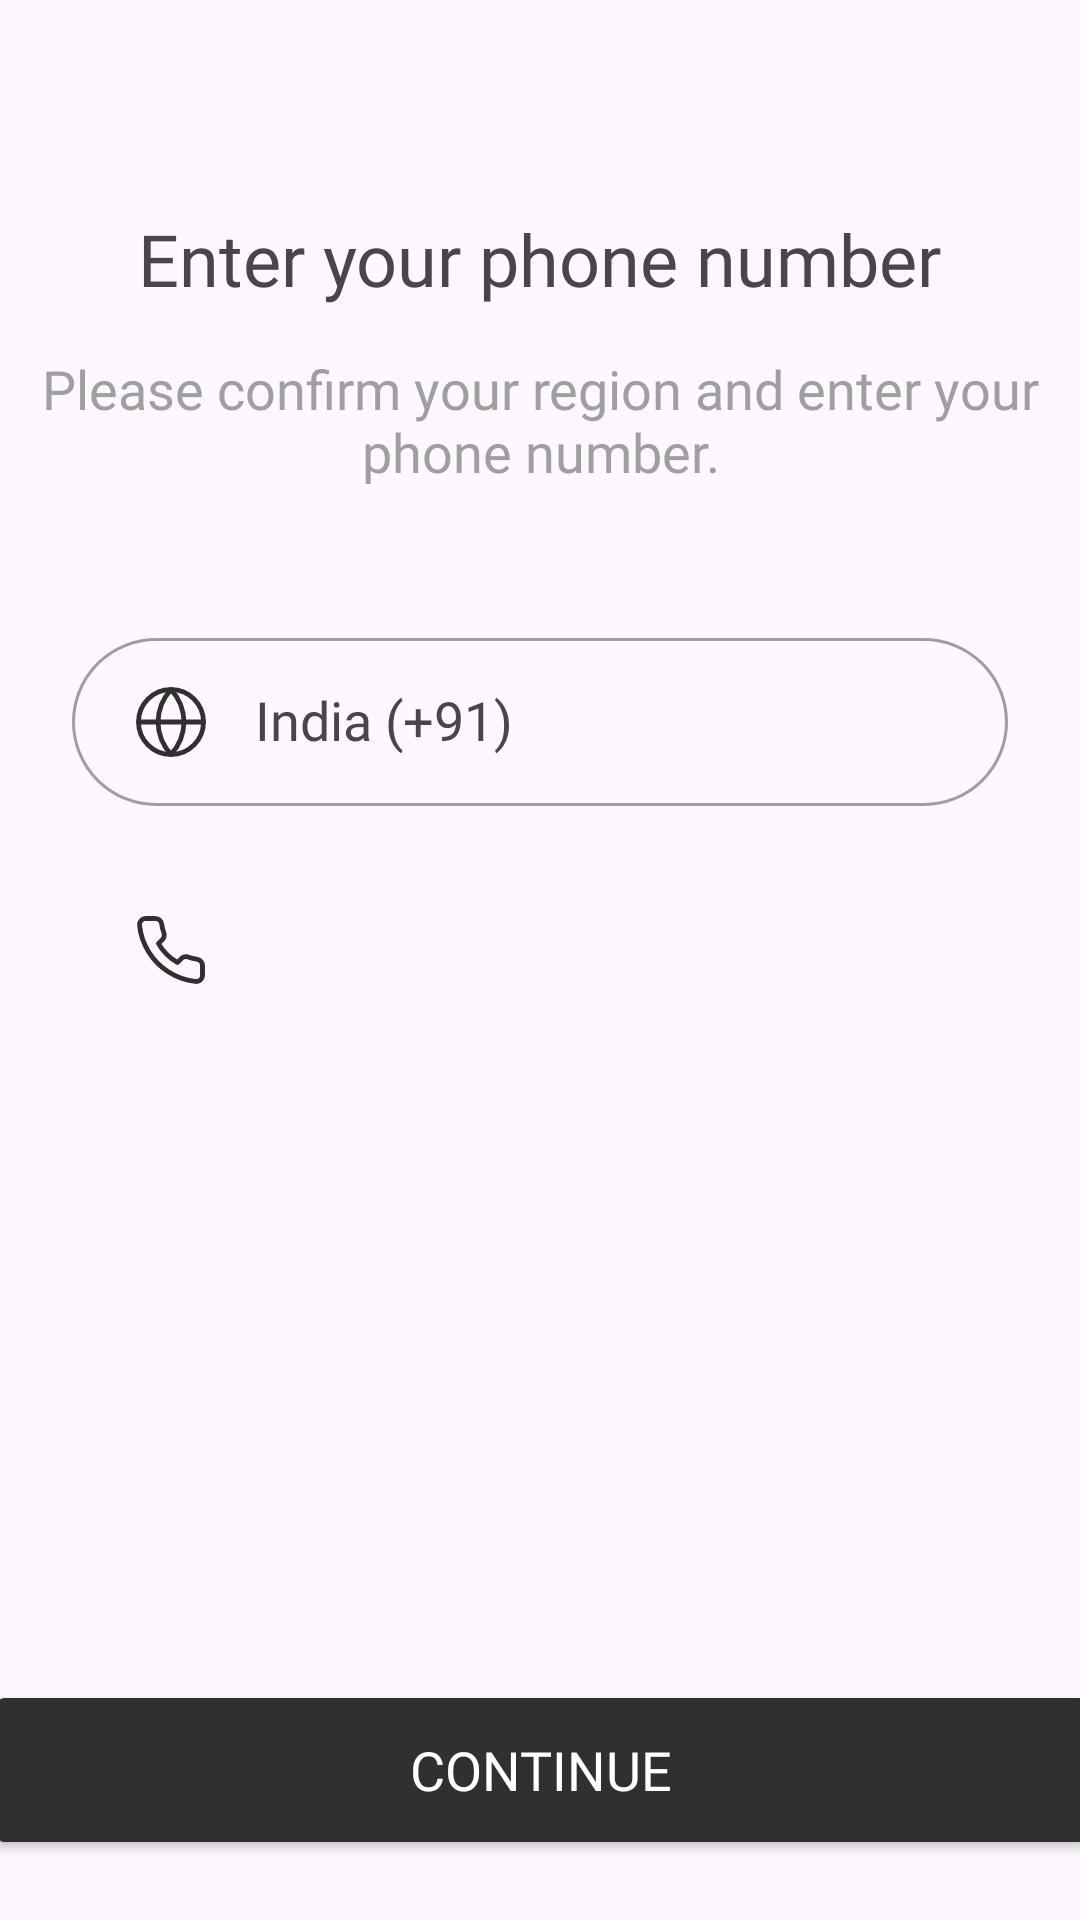

Icons on this 1080px×1920px Android screen, each with its box as box=[x1, y1, x2, y2]:
phone: box=[137, 916, 205, 984]
